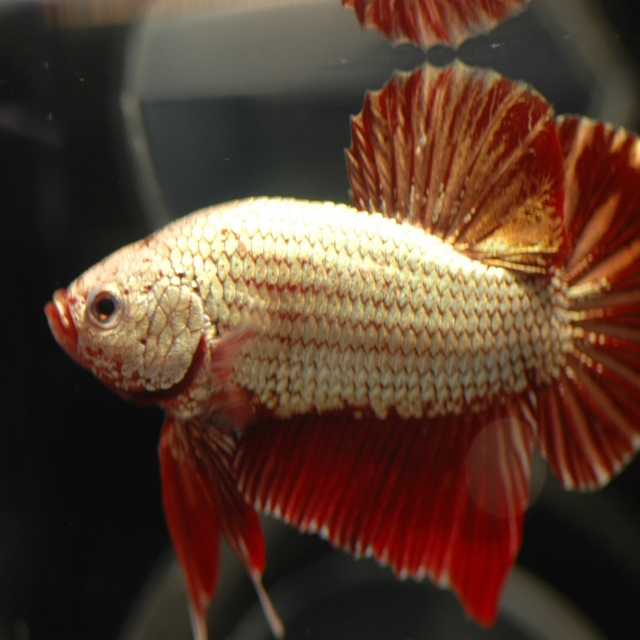Fish: (40, 57, 640, 640)
